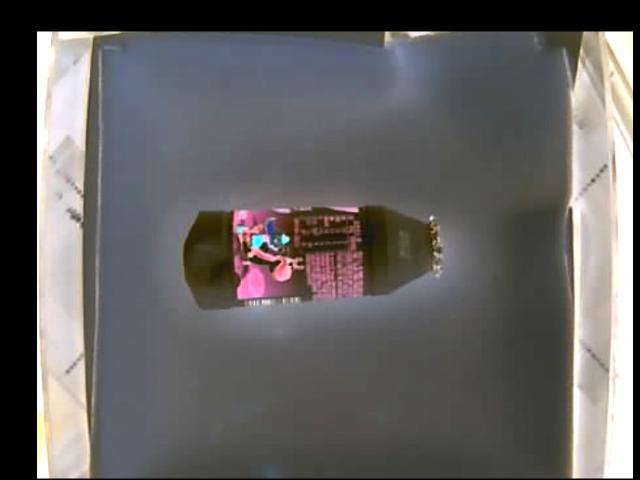Bottle: (186, 205, 443, 311)
